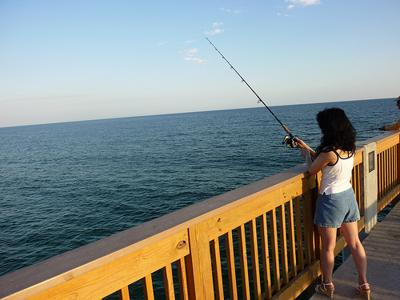person: (293, 108, 370, 294)
